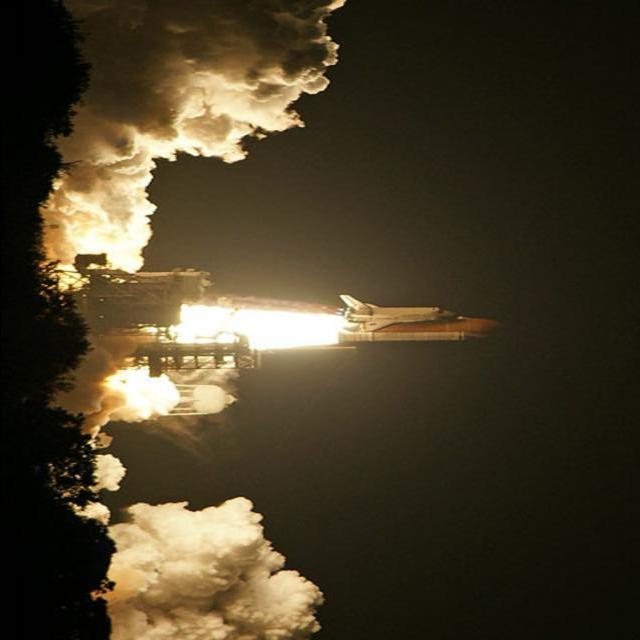Missile: (335, 330, 490, 343)
